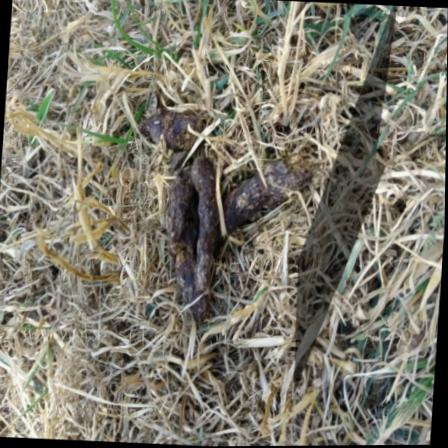dog-poop: (143, 112, 221, 307), (225, 124, 305, 244)
